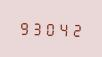four: (57, 20, 69, 37)
nine: (18, 18, 30, 36)
three: (31, 19, 43, 36)
two: (70, 20, 82, 38)
zero: (44, 19, 56, 37)
